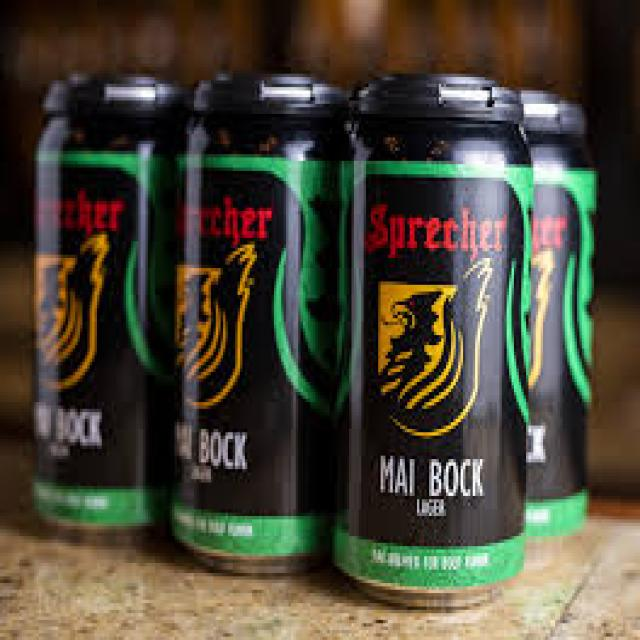Cans: (334, 71, 534, 604), (177, 51, 344, 566), (24, 67, 180, 533)
